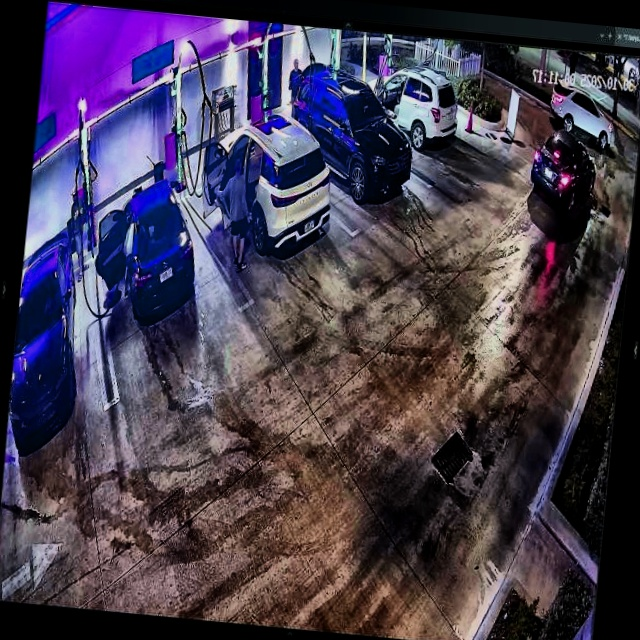Car: (198, 104, 338, 256), (284, 67, 416, 203), (90, 170, 203, 324), (362, 62, 463, 139)
